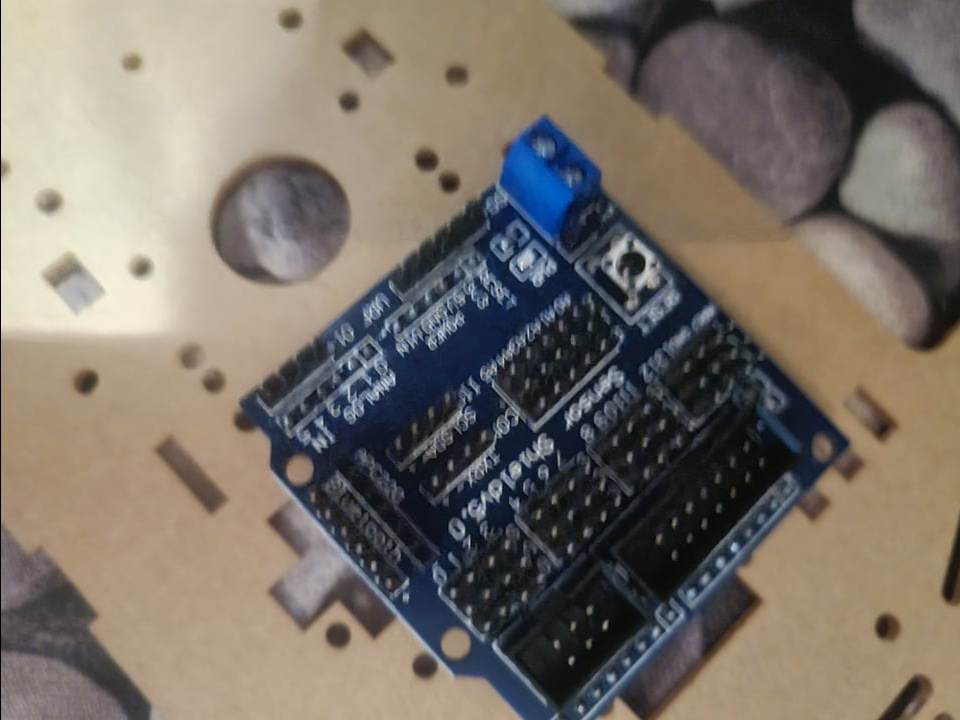5V EXPANSION: (238, 110, 847, 720)
